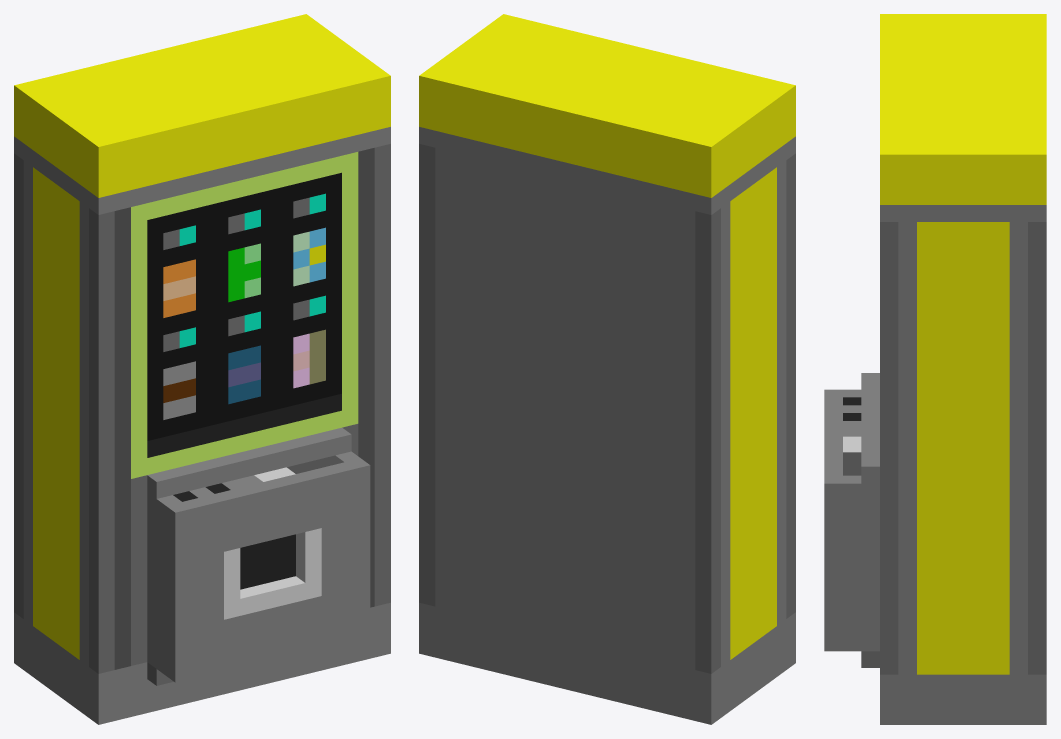
Rendered from Vending Machine 2.obj.
3 views of the same model, side by side, from view 1: azimuth 30°, elevation 25°; view 2: azimuth 150°, elevation 25°; view 3: azimuth 270°, elevation 25° (orthographic).
Size of the model in its own units: 18 by 34 by 12.
1 material, 1 textured.
